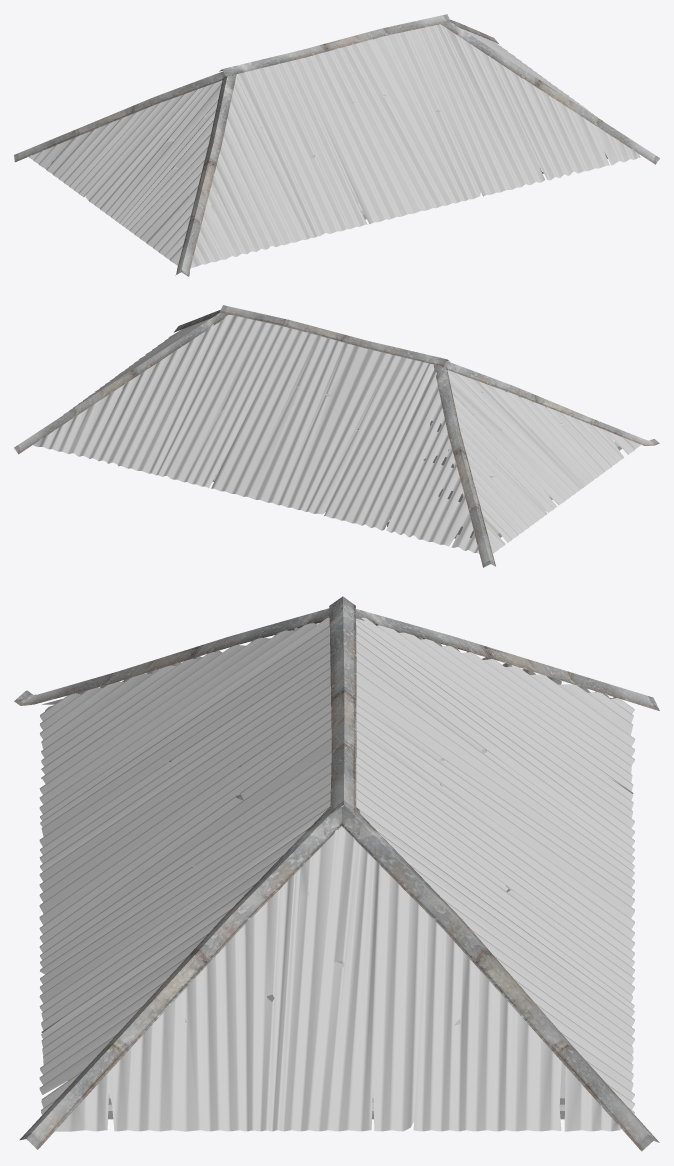
File: Roof_15.FBX
3 renders of one model, top to bottom at view 1: azimuth 30°, elevation 25°; view 2: azimuth 150°, elevation 25°; view 3: azimuth 270°, elevation 25°, orthographic. The views are drawn at different scales.
Visible parts, largest first — view 1: Roof_15, Peak_04; view 2: Roof_15, Peak_04, Attic_05; view 3: Roof_15, Peak_04.
Part boxes in pixels (left/top/right/bottom): Roof_15: left=29, top=24, right=640, bottom=267; Peak_04: left=14, top=14, right=659, bottom=276; Roof_15: left=33, top=314, right=640, bottom=553; Peak_04: left=14, top=305, right=659, bottom=567; Attic_05: left=117, top=320, right=621, bottom=538; Roof_15: left=39, top=617, right=634, bottom=1131; Peak_04: left=14, top=596, right=659, bottom=1151.
Bounding box in the file's own units: 1290 × 783 × 307.
